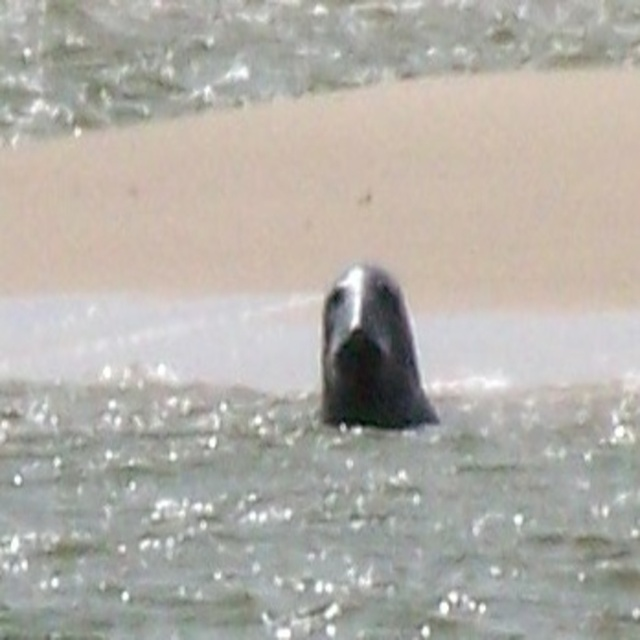Harbor seal: (316, 265, 441, 426)
